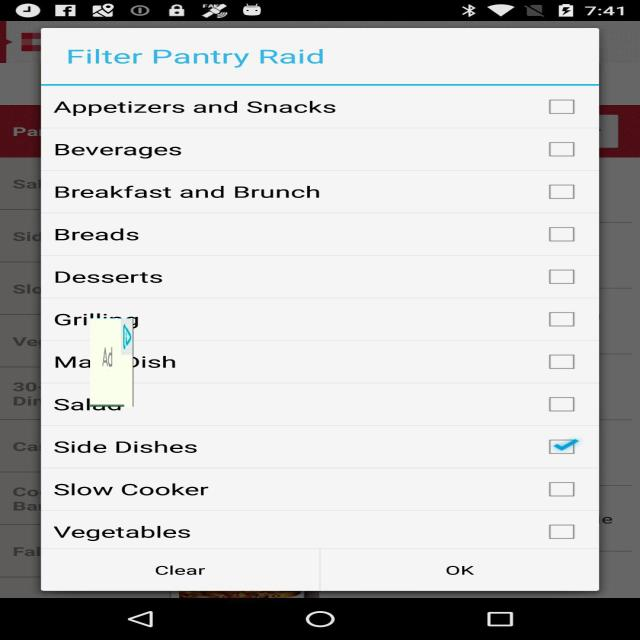sneaking: (90, 318, 133, 407)
